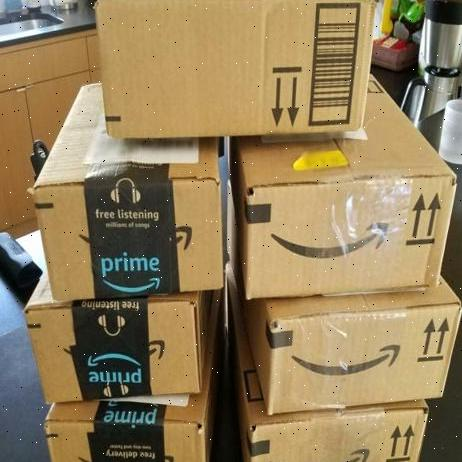Amazon: (237, 75, 453, 298), (35, 73, 223, 297), (95, 0, 372, 139), (248, 285, 462, 418), (20, 286, 209, 403), (245, 404, 429, 462), (45, 396, 206, 462)
